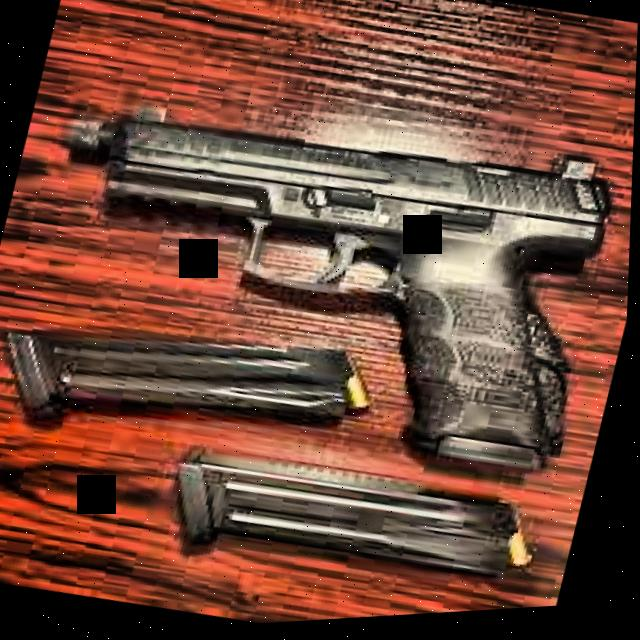HKVP9: (0, 49, 638, 517)
